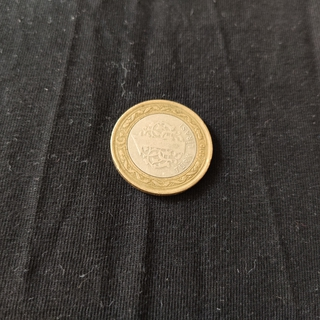1TL: (108, 97, 215, 196)
